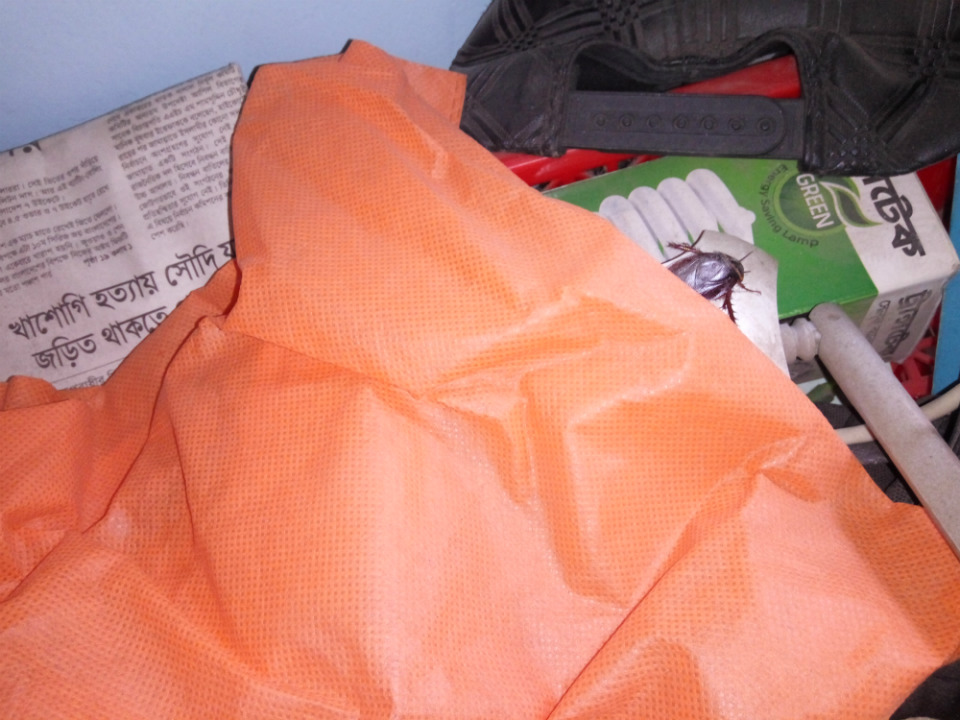cockroach: (627, 198, 768, 327)
